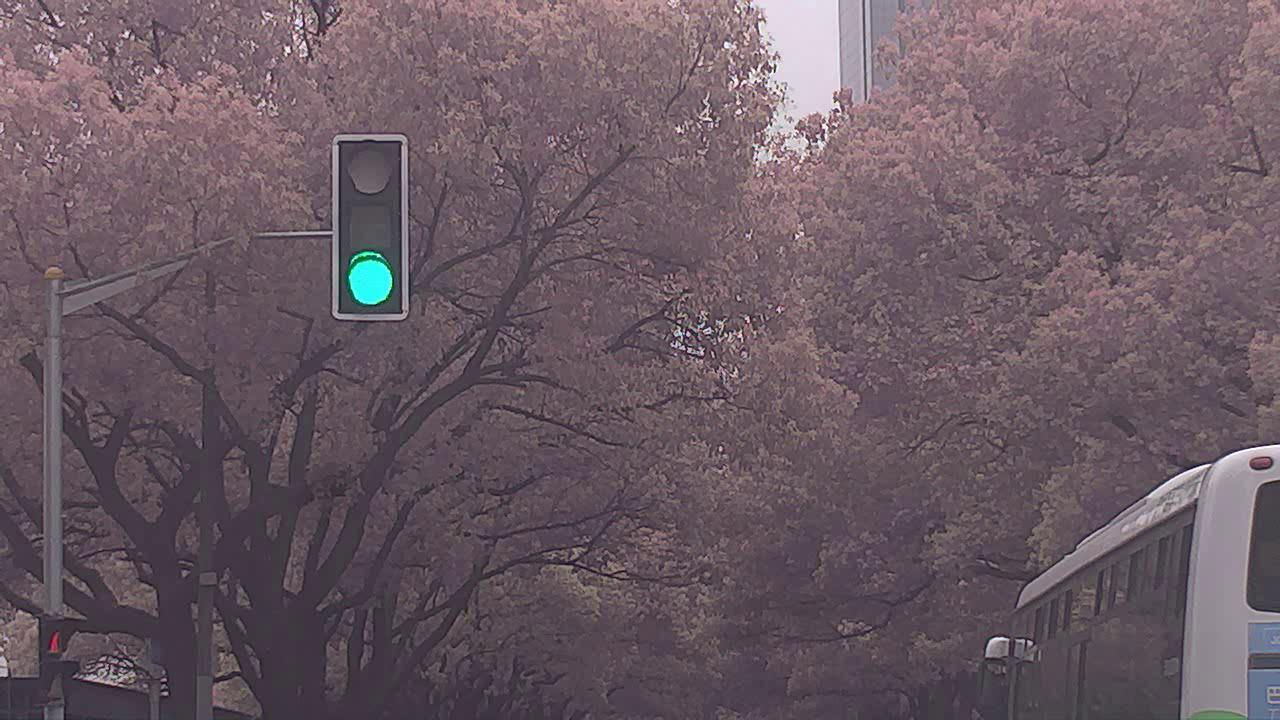traffic_light: (339, 132, 409, 321)
